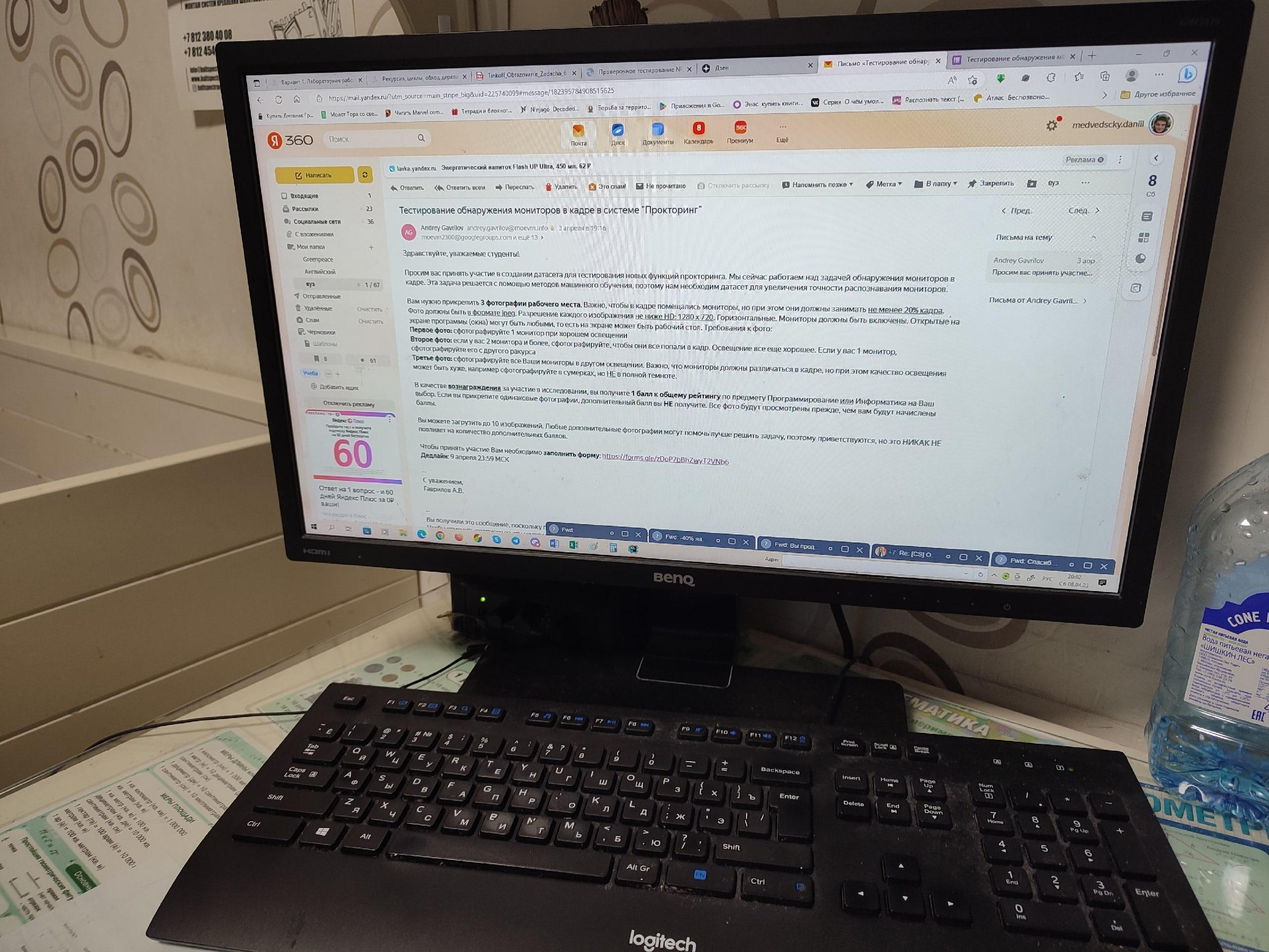monitor: (210, 0, 1259, 630)
